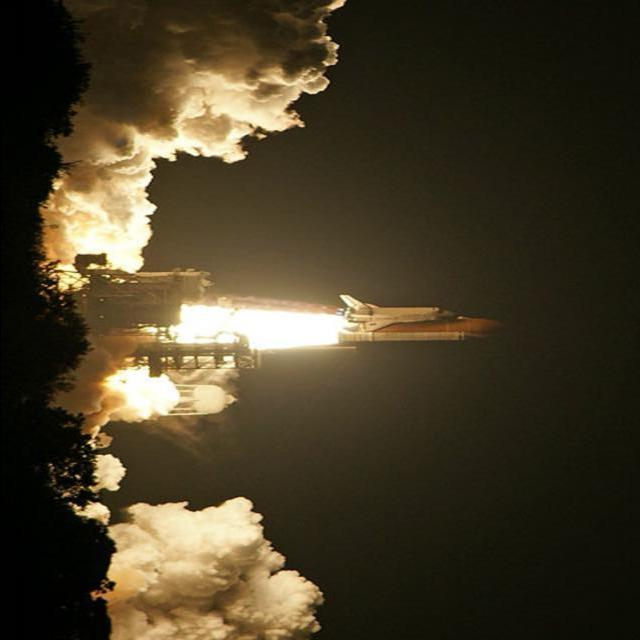missile: (338, 292, 503, 352)
